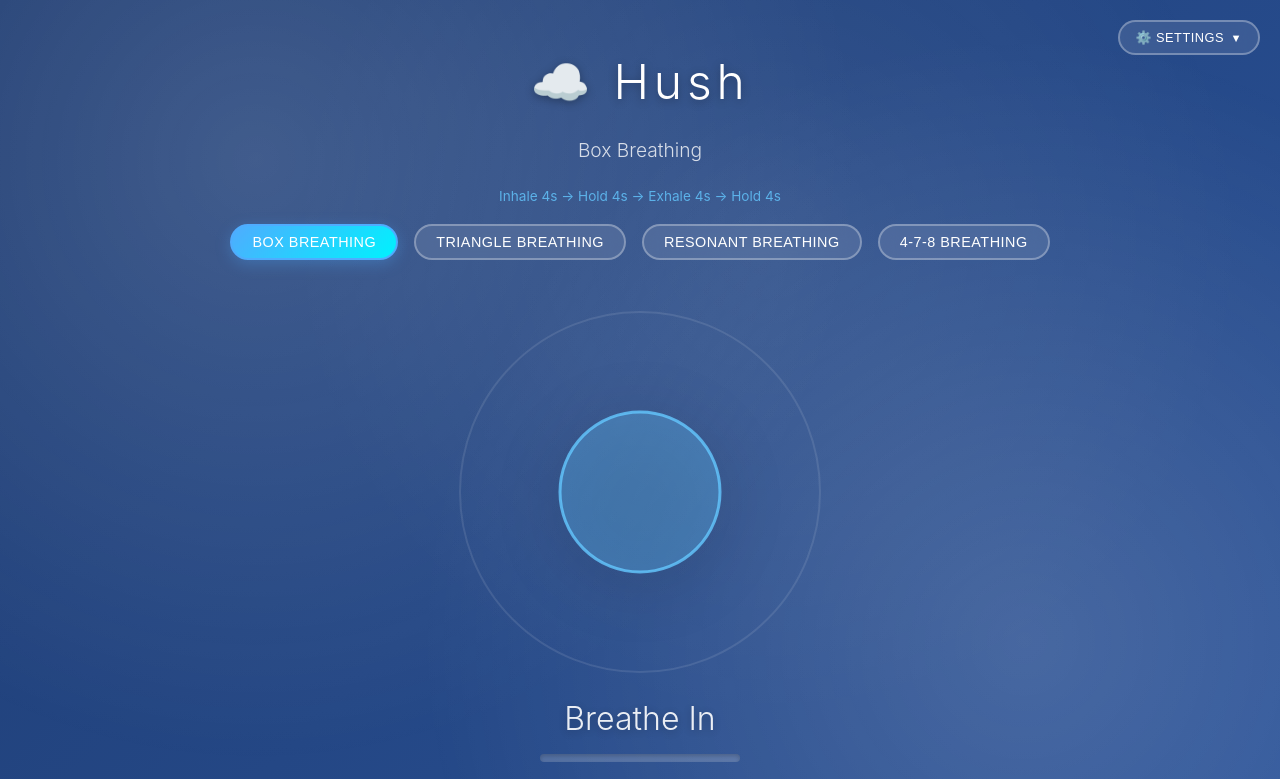
Test: Hush Breathing App - Core Functionality Tests › Accessibility and ARIA › has proper ARIA attributes
This screenshot has width=1280, height=779.
// Open settings
Click the button "⚙️ Settings ▼".
click(1189, 38)  # box [1118,20,1260,55]
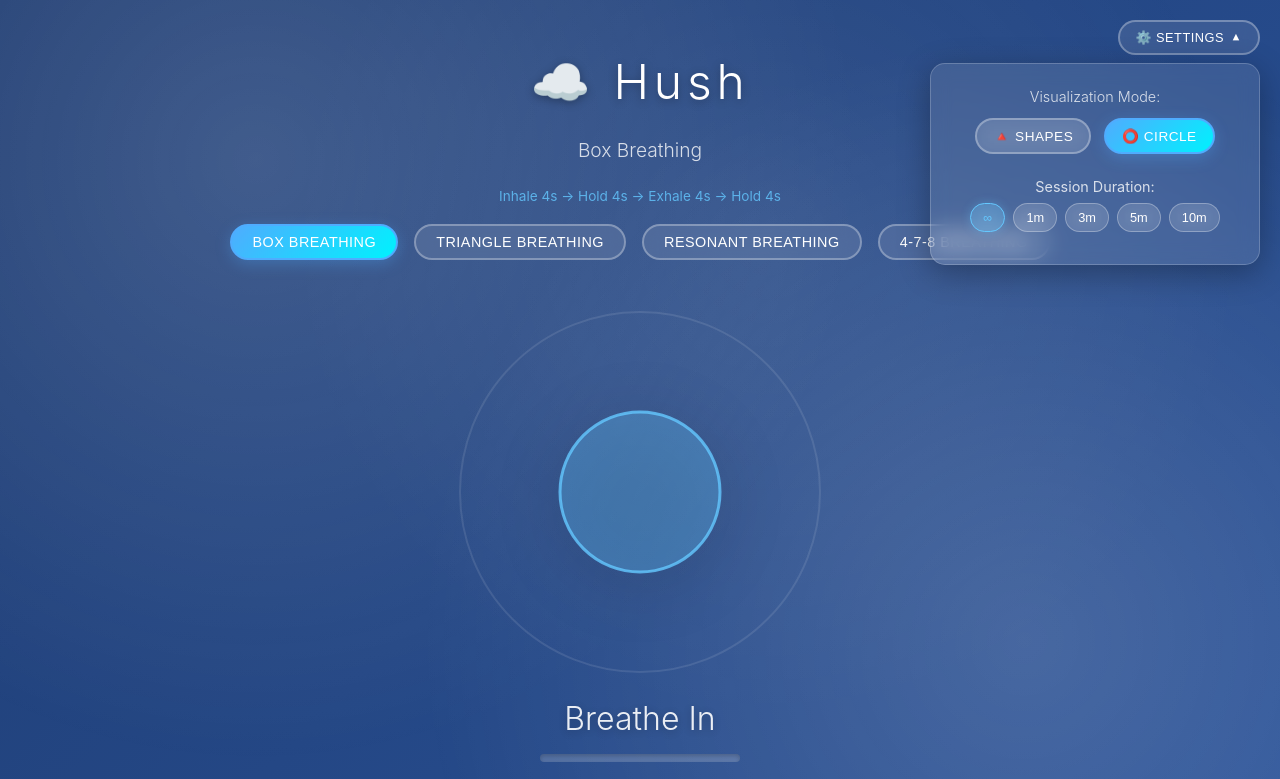
Check: the button "⚙️ Settings ▼" is expanded, box [1118,20,1260,55]
